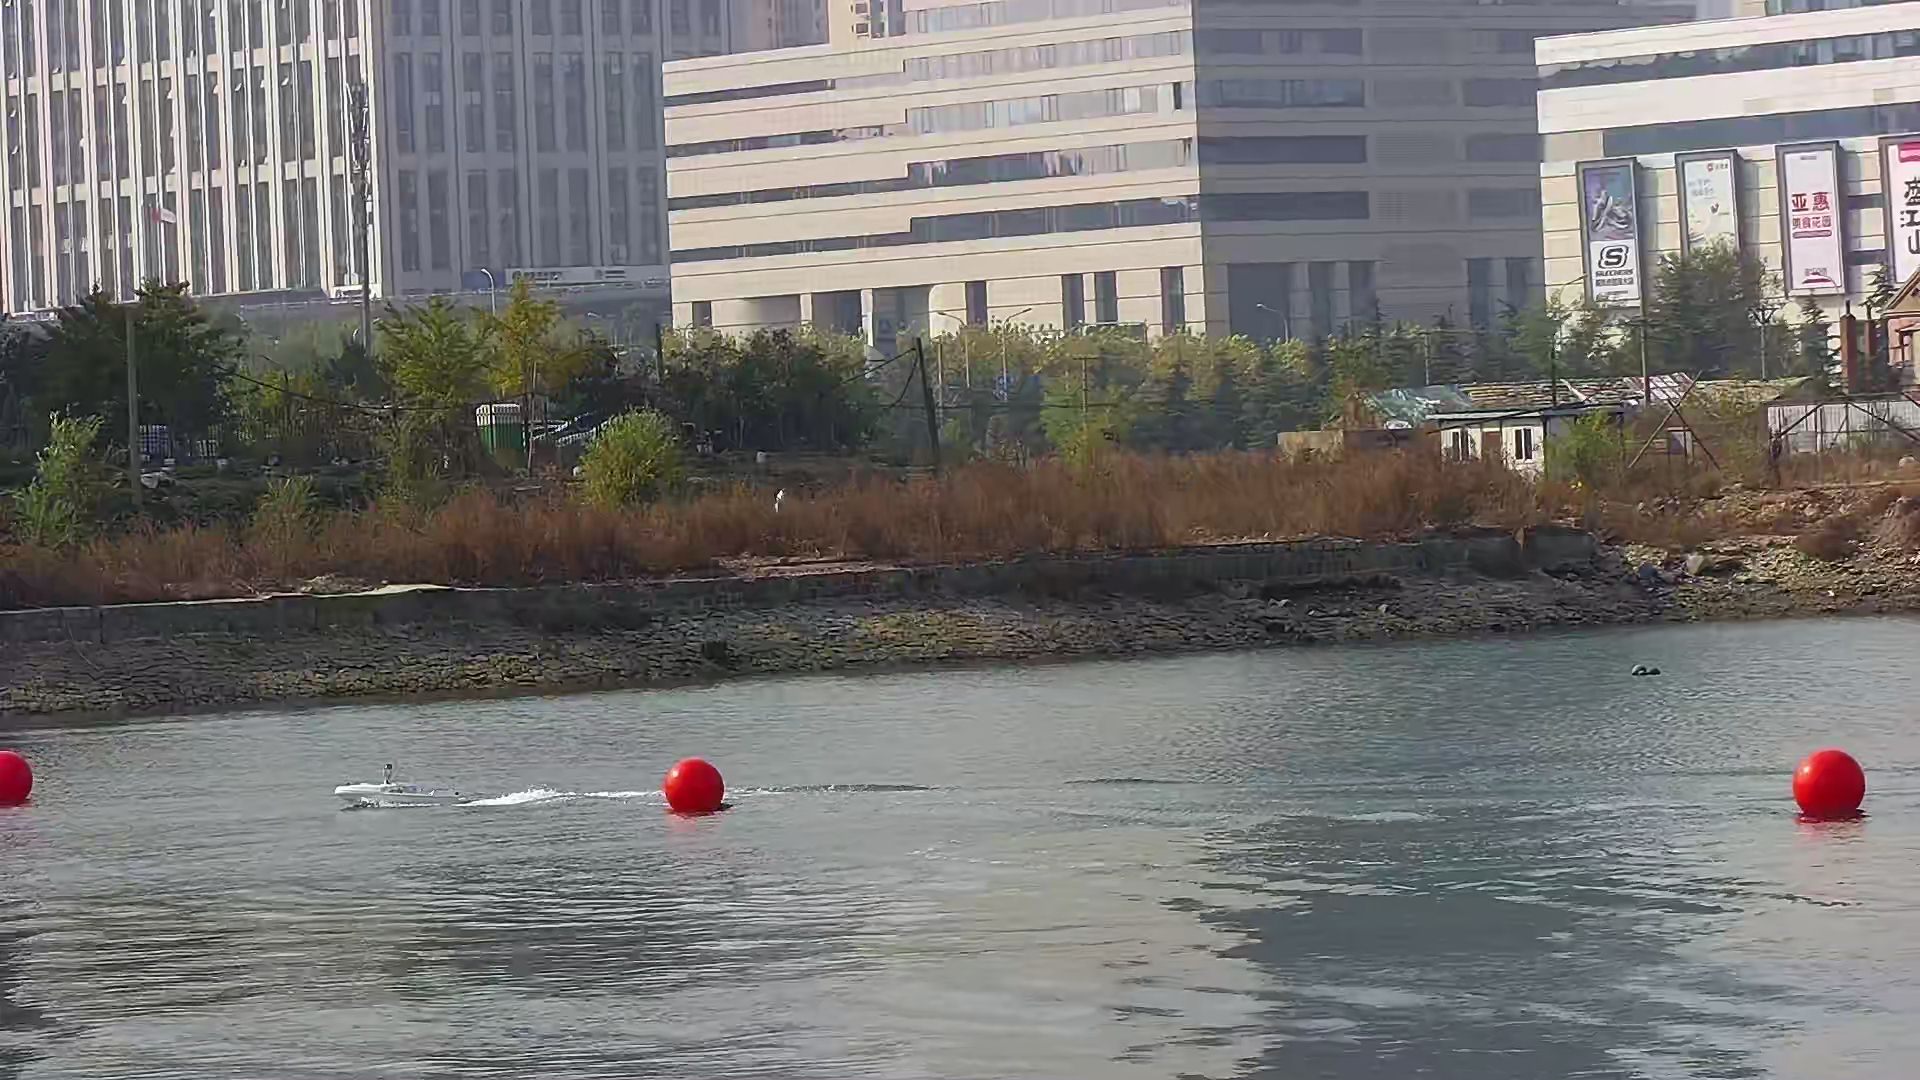ball: (1791, 754, 1867, 820), (662, 754, 735, 822)
boat: (328, 765, 467, 811)
rubbish: (1629, 663, 1667, 678)
